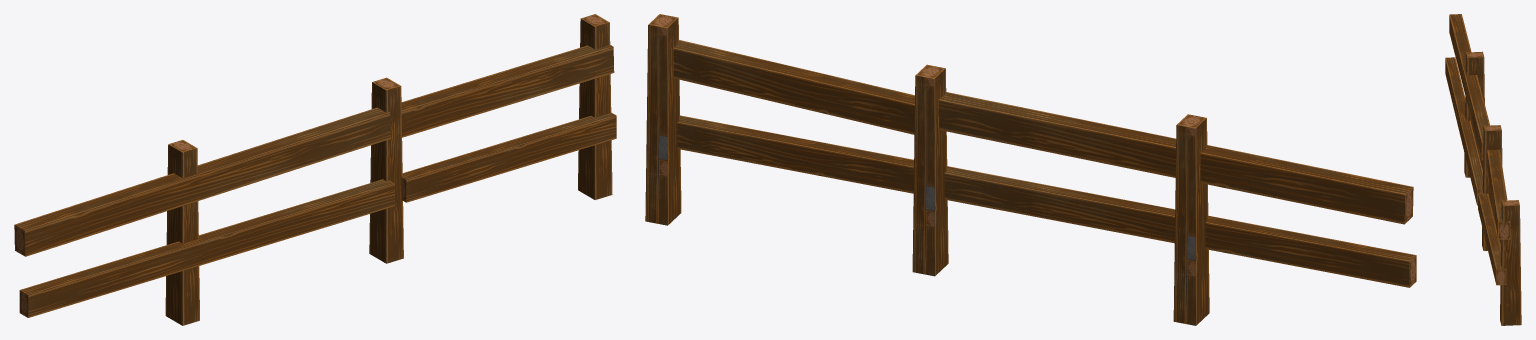
3 renders of one model, left to right at view 1: azimuth 30°, elevation 25°; view 2: azimuth 150°, elevation 25°; view 3: azimuth 270°, elevation 25°, orthographic. The views are drawn at different scales.
Visible parts, largest first — view 1: Cube.2151; view 2: Cube.2151; view 3: Cube.2151.
Part boxes in pixels (x1=…): Cube.2151: x1=14, y1=14, x2=616, y2=325; Cube.2151: x1=645, y1=14, x2=1416, y2=325; Cube.2151: x1=1445, y1=14, x2=1521, y2=325.
Bounding box in the file's own units: 502 × 132 × 76.31.
Materials: 1 (1 with a texture image).
